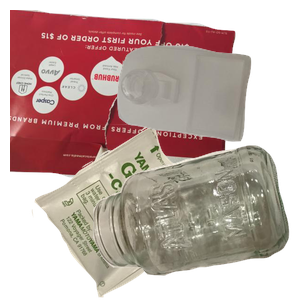glass: (91, 143, 300, 300)
paper: (10, 10, 238, 190)
plastic: (115, 43, 300, 177)
trash: (29, 124, 238, 300)
